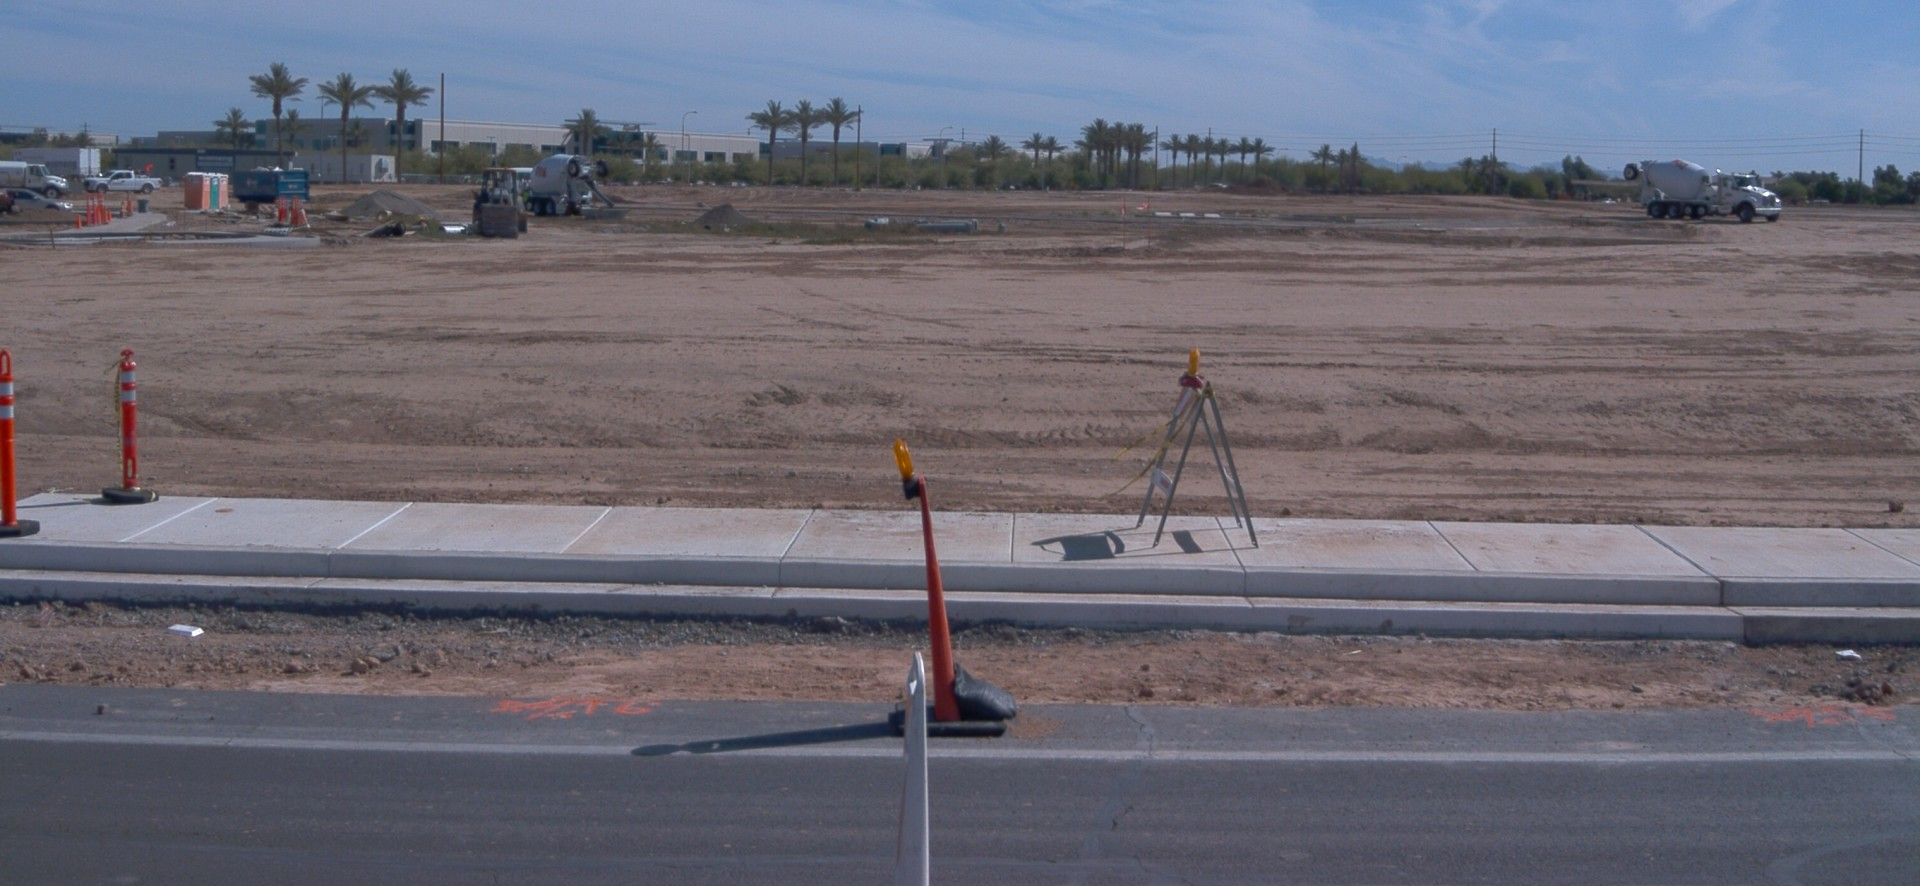TYPE_PEDESTRIAN: (520, 186, 532, 218)
TYPE_VEHICLE: (1619, 153, 1785, 226), (503, 155, 614, 220), (470, 165, 530, 236), (17, 144, 103, 186), (0, 160, 68, 202), (82, 170, 165, 199), (3, 182, 79, 212), (0, 169, 16, 215), (1212, 186, 1226, 191)
